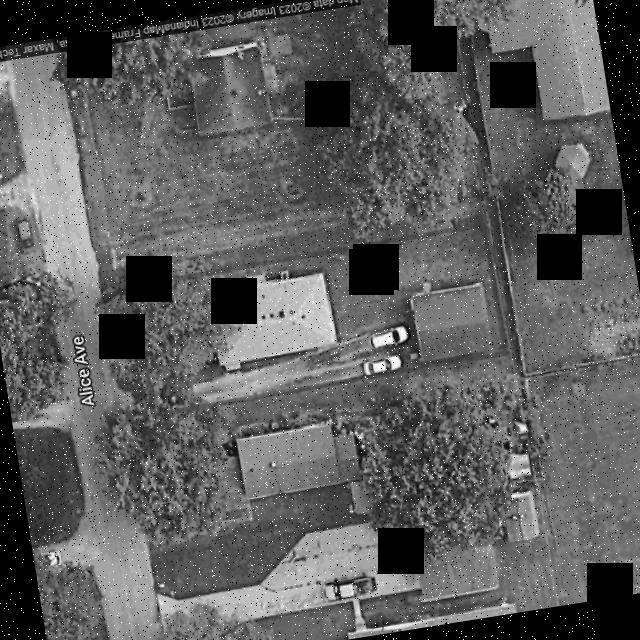Driveway: (152, 327, 422, 412)
Extra Driveway: (113, 377, 151, 425)
Extra Lawn: (101, 285, 145, 386)
House: (219, 272, 337, 366)
Other: (412, 283, 489, 361)
